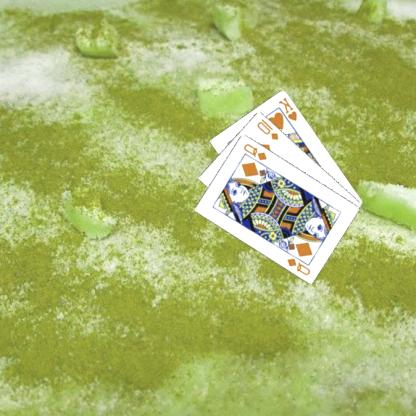10D: (256, 116, 282, 141)
KH: (277, 95, 301, 122)
QD: (242, 140, 270, 162), (286, 255, 314, 276)
